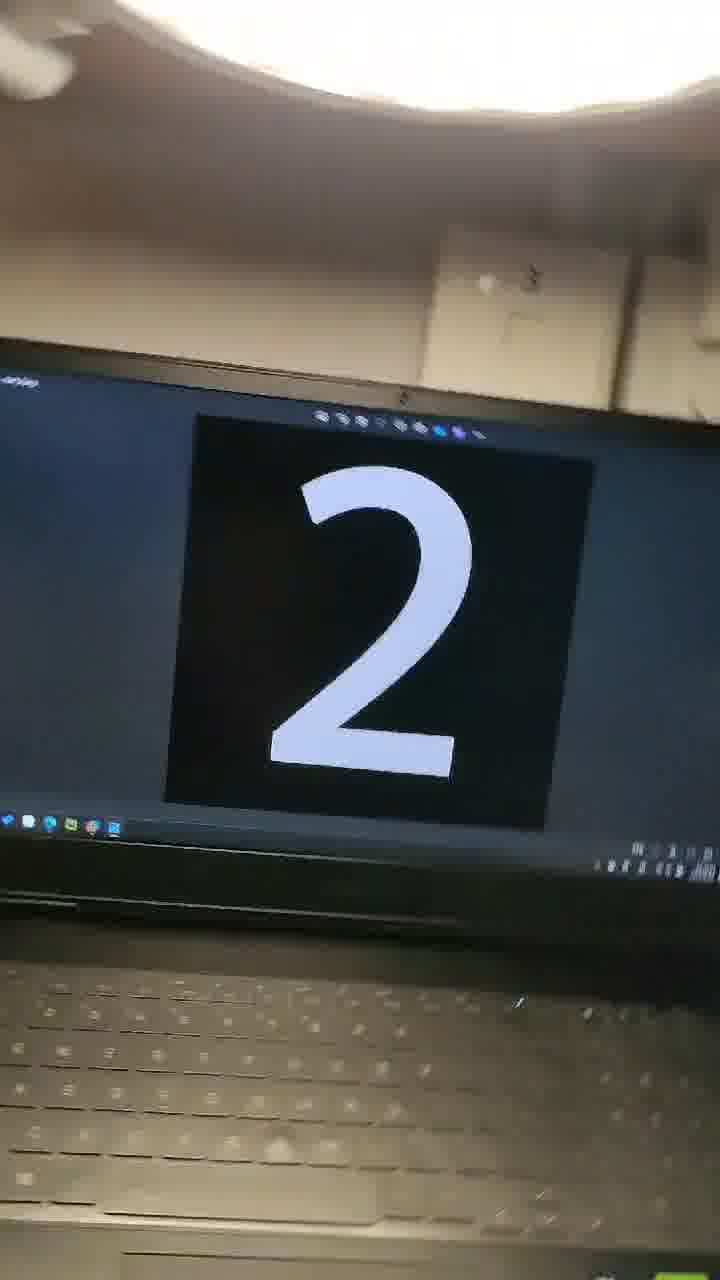two: (157, 391, 520, 863)
